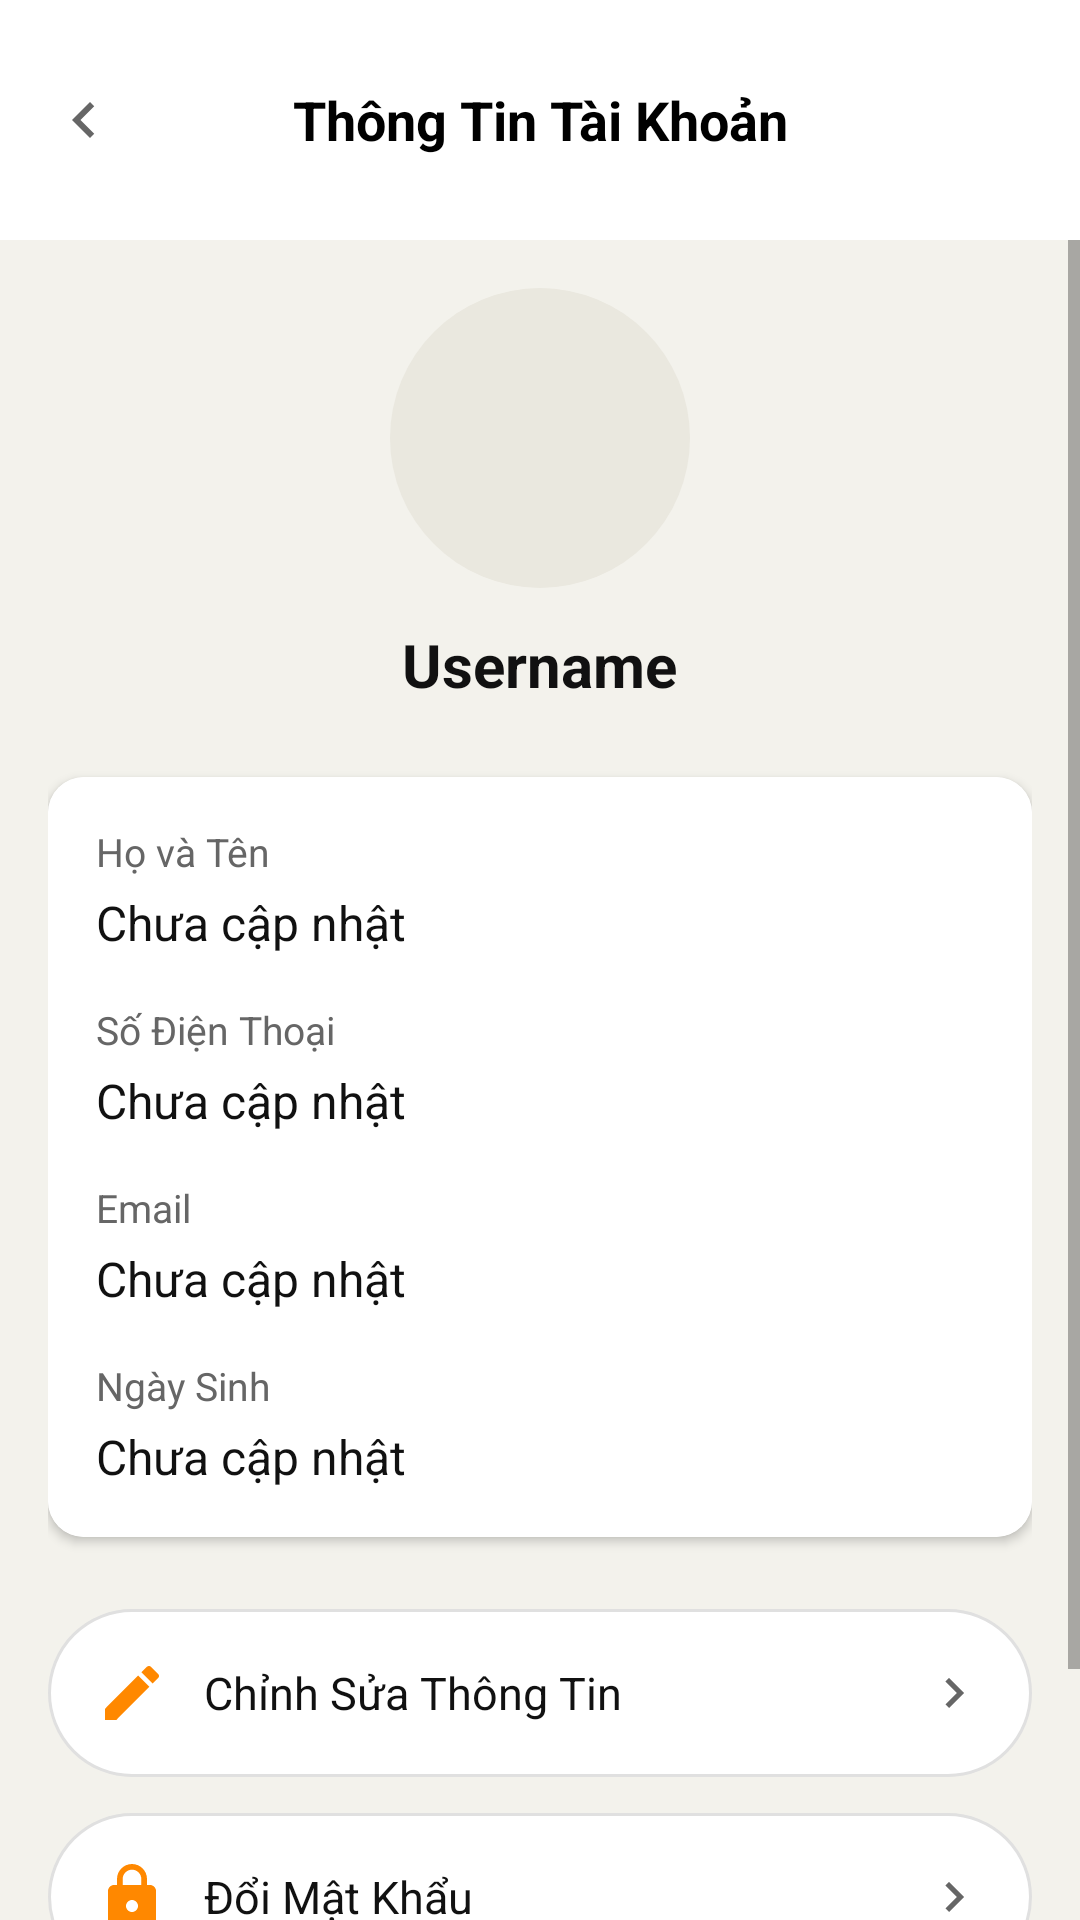

Screen size 1080 × 1920. Icon name, then its center in pixels as point (x, y):
edit: point (132, 1693)
